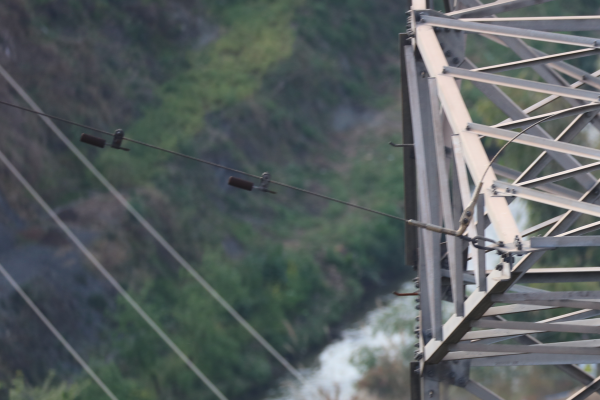damper_defect: (78, 126, 134, 154), (225, 169, 281, 196)
